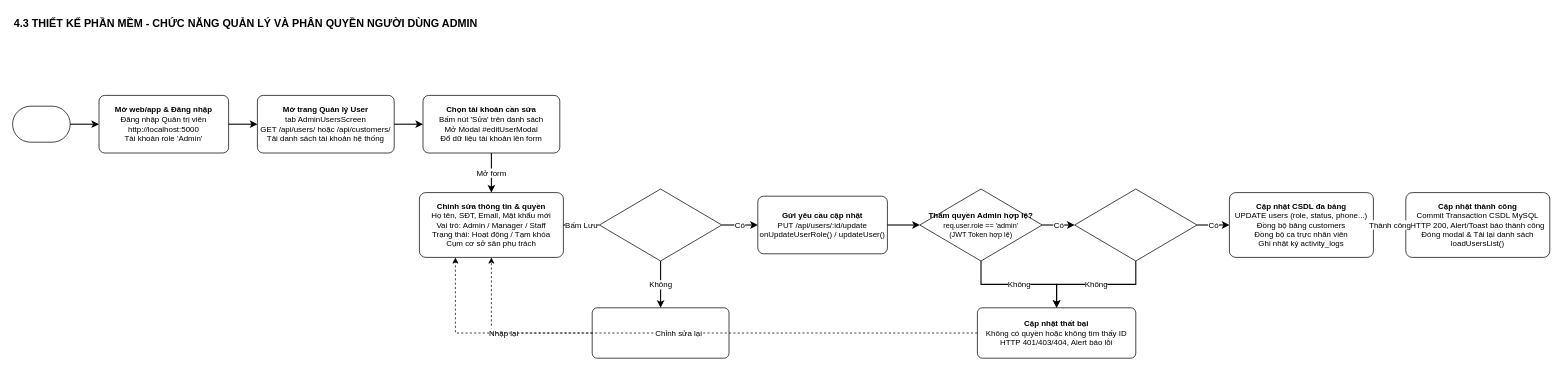
Some shapes in this 1562 by 371 pixel diagram are drawn without their labels. Each missing label, with the centre of its shape:
"Dữ liệu không hợp lệ Hiển thị Alert cảnh báo lỗi Giữ nguyên modal để nhập lại" goes at point (660, 332).
"Dữ liệu nhập hợp lệ? Có tên & SĐT đúng 10 số Mật khẩu mới ≥ 6 ký tự" goes at point (660, 224).
"START" goes at point (41, 123).
"Tài khoản tồn tại trong DB? SELECT id FROM users WHERE id = %s" goes at point (1135, 224).
